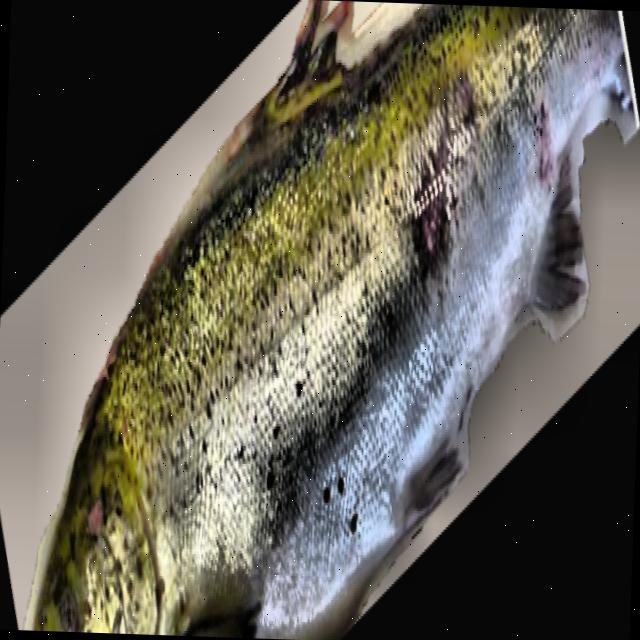mild_red: (418, 189, 449, 268), (534, 105, 560, 190)
